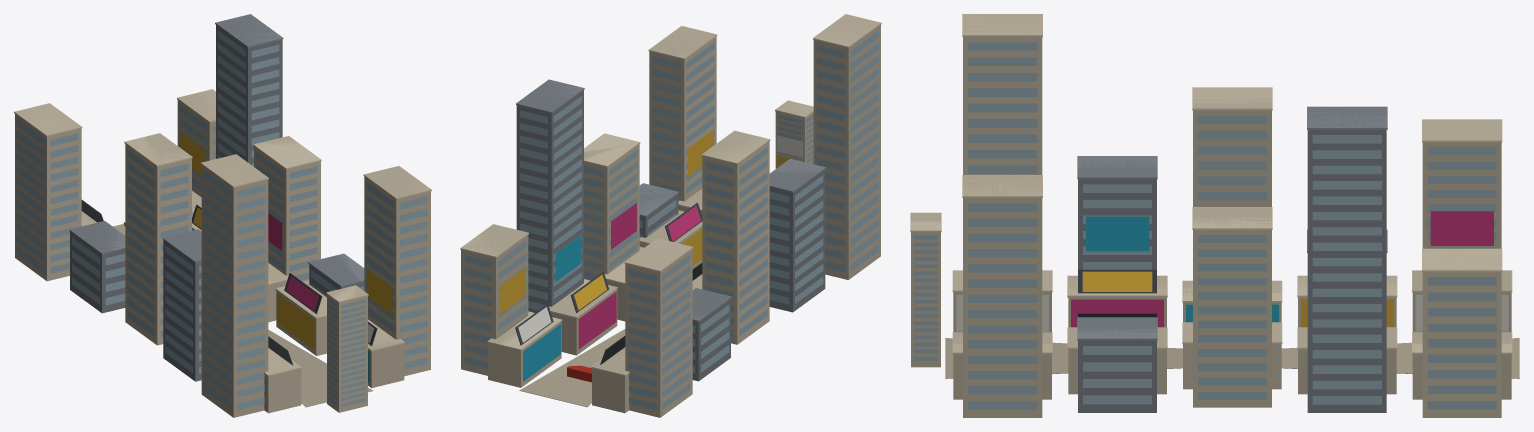
3 views of the same model, side by side, from view 1: azimuth 30°, elevation 25°; view 2: azimuth 150°, elevation 25°; view 3: azimuth 270°, elevation 25° (orthographic). The views are drawn at different scales.
Visible parts, largest first — view 1: times-square-lod1; view 2: times-square-lod1; view 3: times-square-lod1.
Boxes of the visible parts, x1=… form: times-square-lod1: x1=14, y1=14, x2=431, y2=417; times-square-lod1: x1=460, y1=14, x2=881, y2=417; times-square-lod1: x1=910, y1=14, x2=1519, y2=417.
Size of the model in its own units: 206 by 230 by 446.
